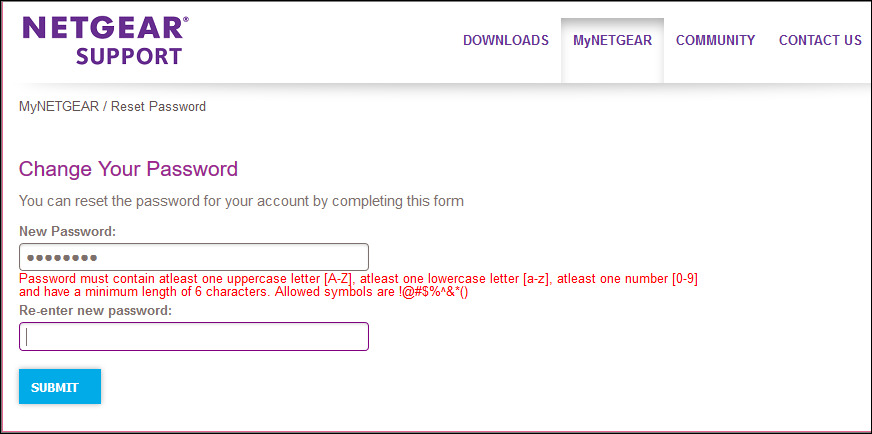error_message: (17, 272, 706, 299)
